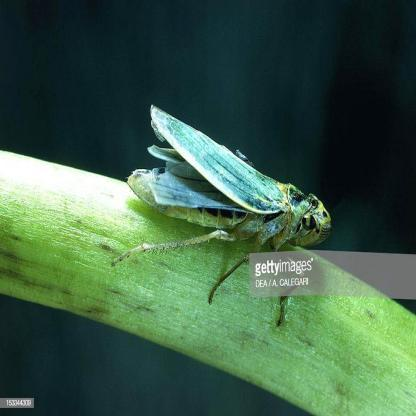green-leafhopper: (130, 112, 330, 259)
